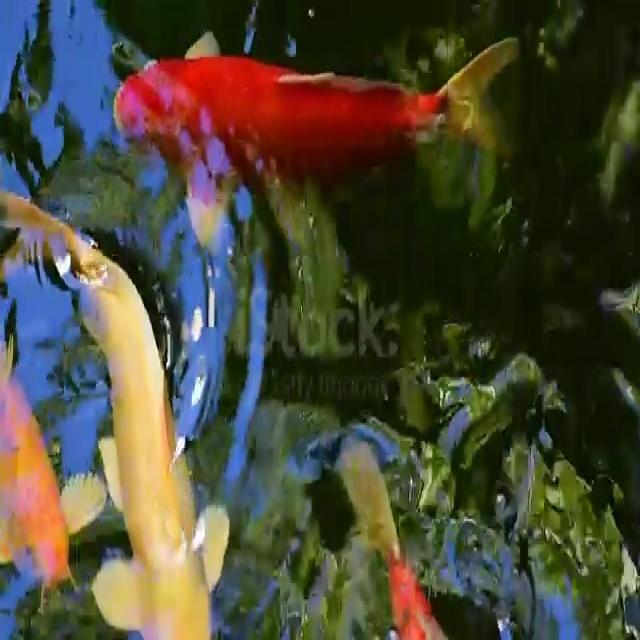fish: (5, 193, 237, 640), (117, 14, 526, 246), (0, 347, 73, 597)
